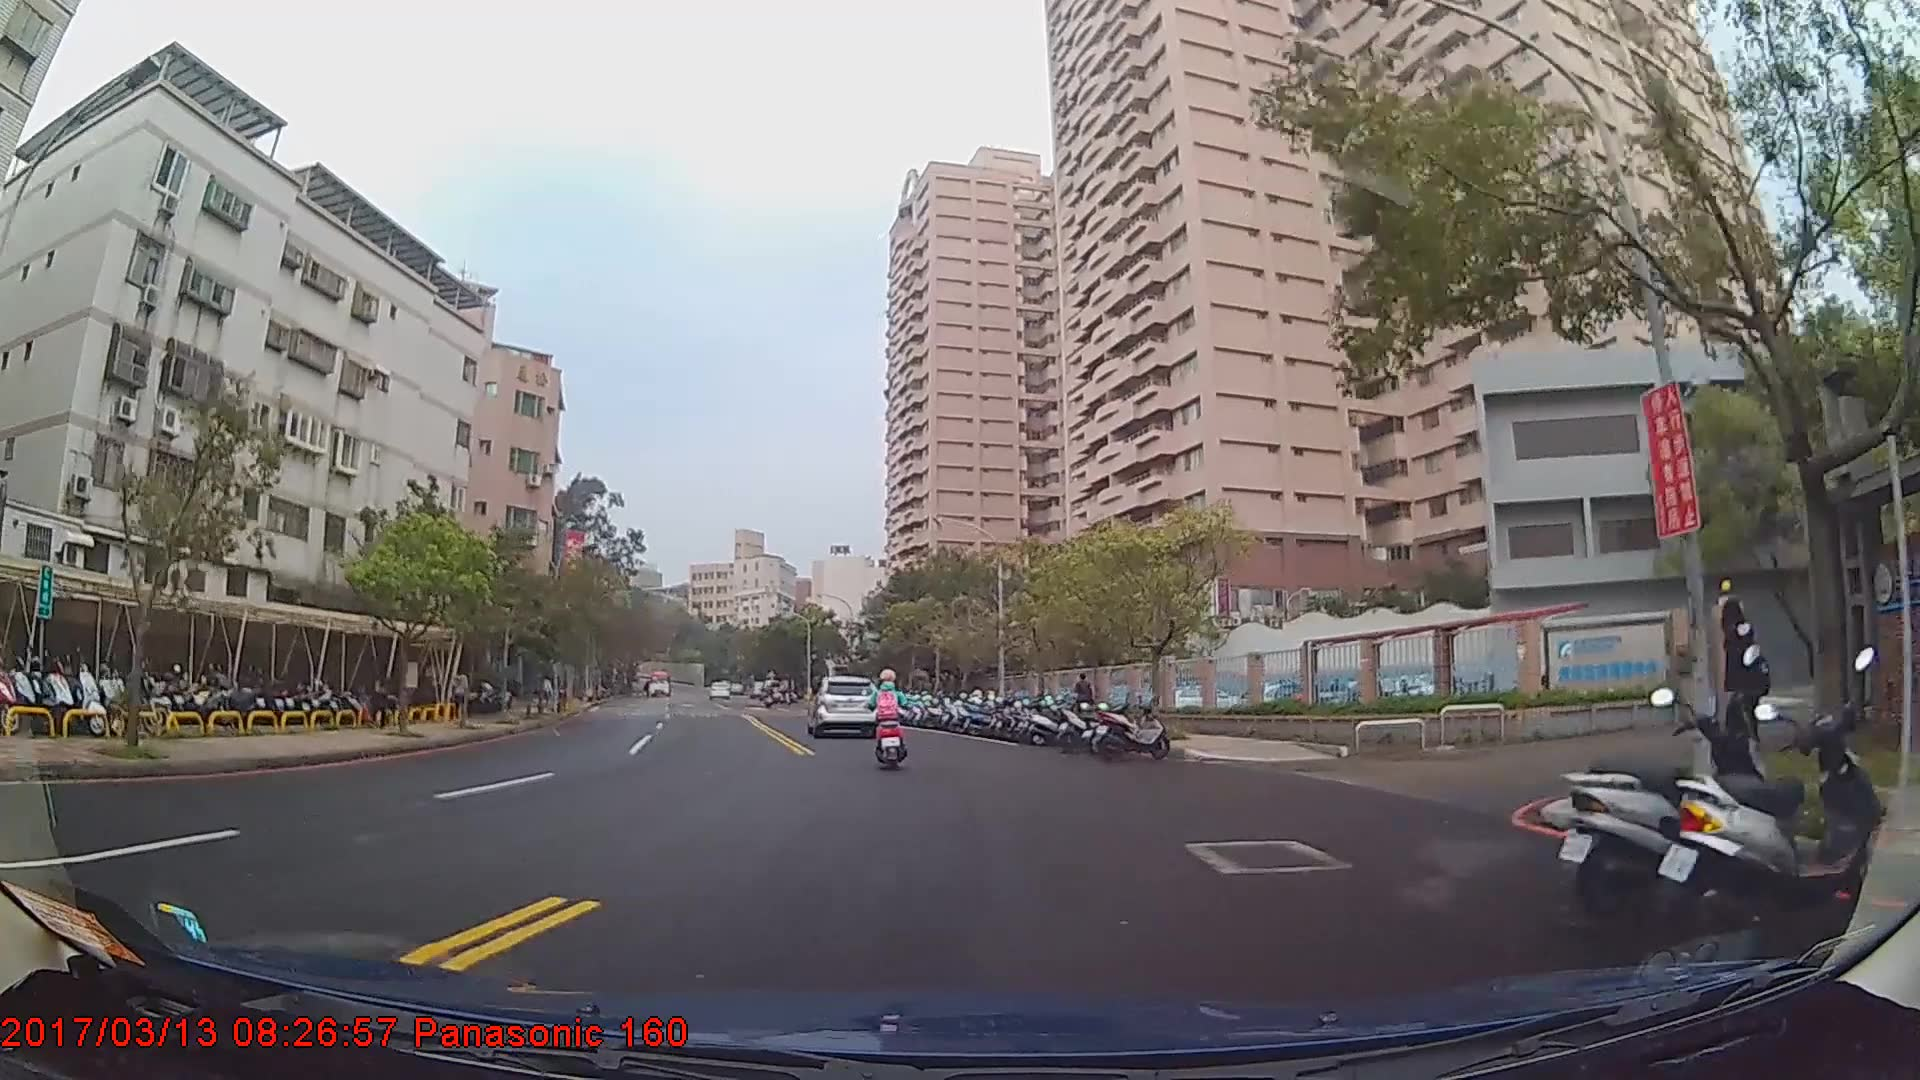pedestrian: (1699, 595, 1774, 814), (365, 665, 392, 735), (1074, 672, 1095, 730)
rider: (868, 670, 910, 767)
vehicle: (805, 676, 882, 741), (642, 669, 670, 699)
